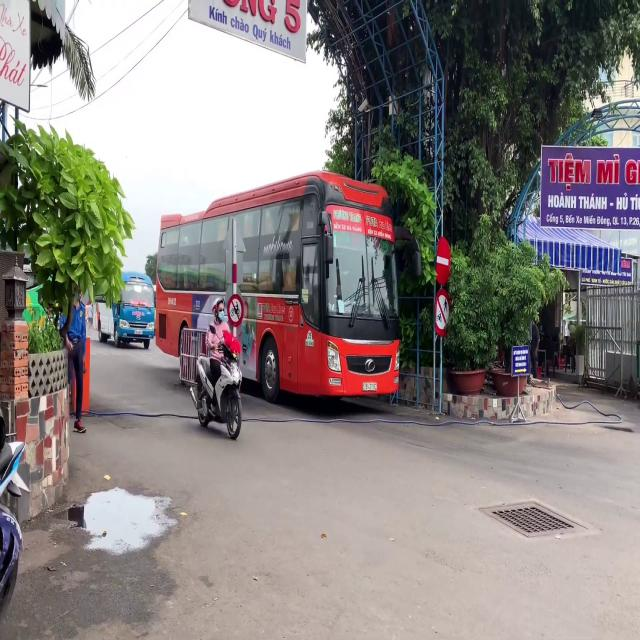bien_trang: (361, 380, 382, 394)
